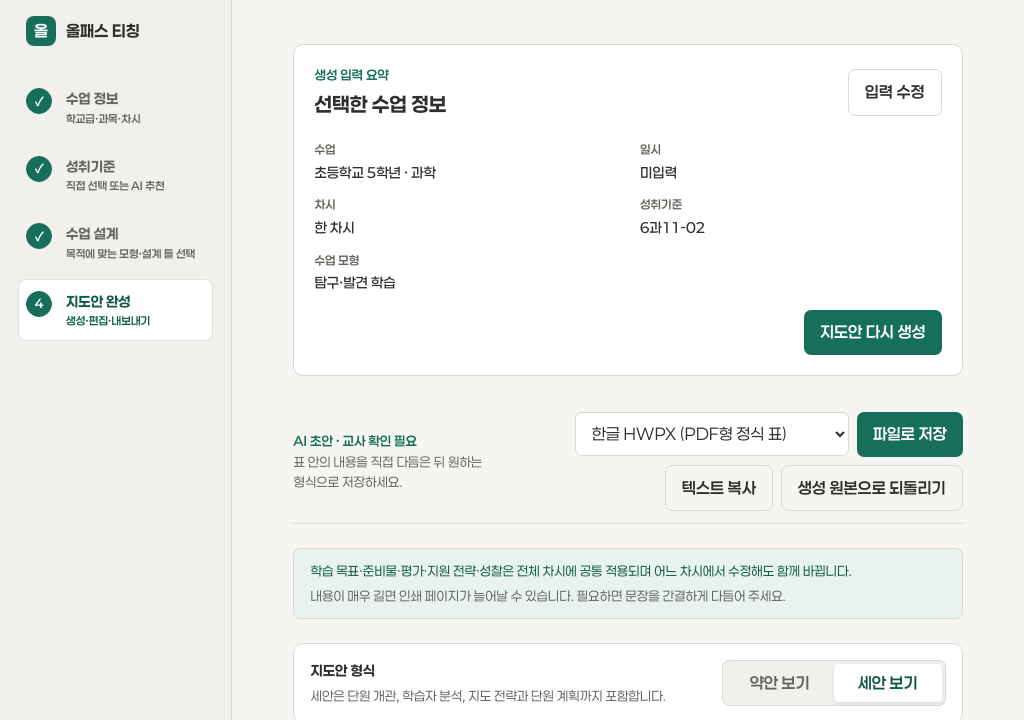
Test case: moves from a generated plan to completed earlier steps and back without deleting the plan
The image size is (1024, 720).
Click the button with aria-label "수업 정보 단계로 이동" at x=116, y=107, box [18,76,213,138]
(page scrolled)
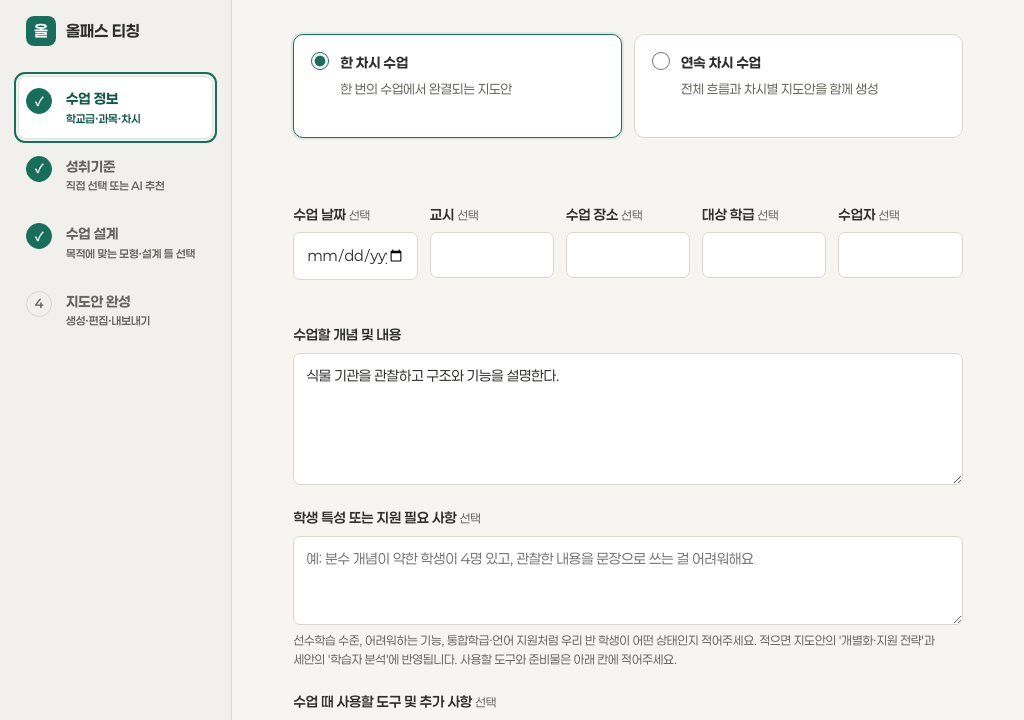
Replace the text in the text box labelled "수업할 개념 및 내용" with "수정한 식물 탐구 수업" at x=628, y=419, box [293,353,962,485]
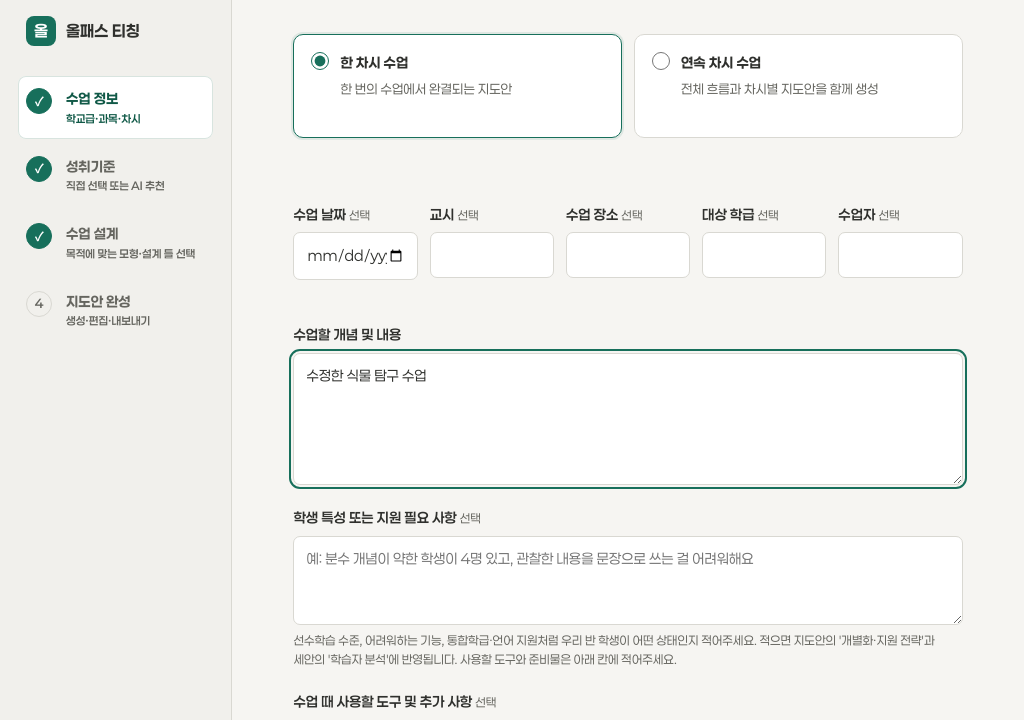
Click the button with aria-label "지도안 완성 단계로 이동" at x=116, y=310, box [18,279,213,341]
(page scrolled)
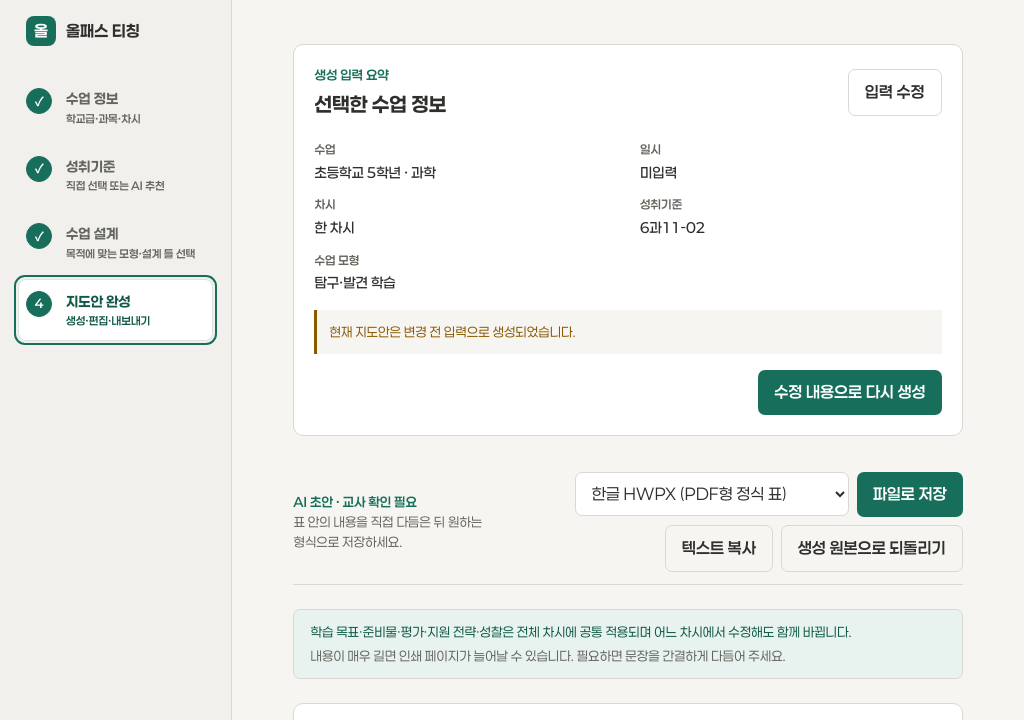
Check: the button "수정 내용으로 다시 생성" is enabled, box [758,370,942,415]
Check: the text "현재 지도안은 변경 전 입력으로 생성되었습니다." is shown, box [314,310,942,354]
